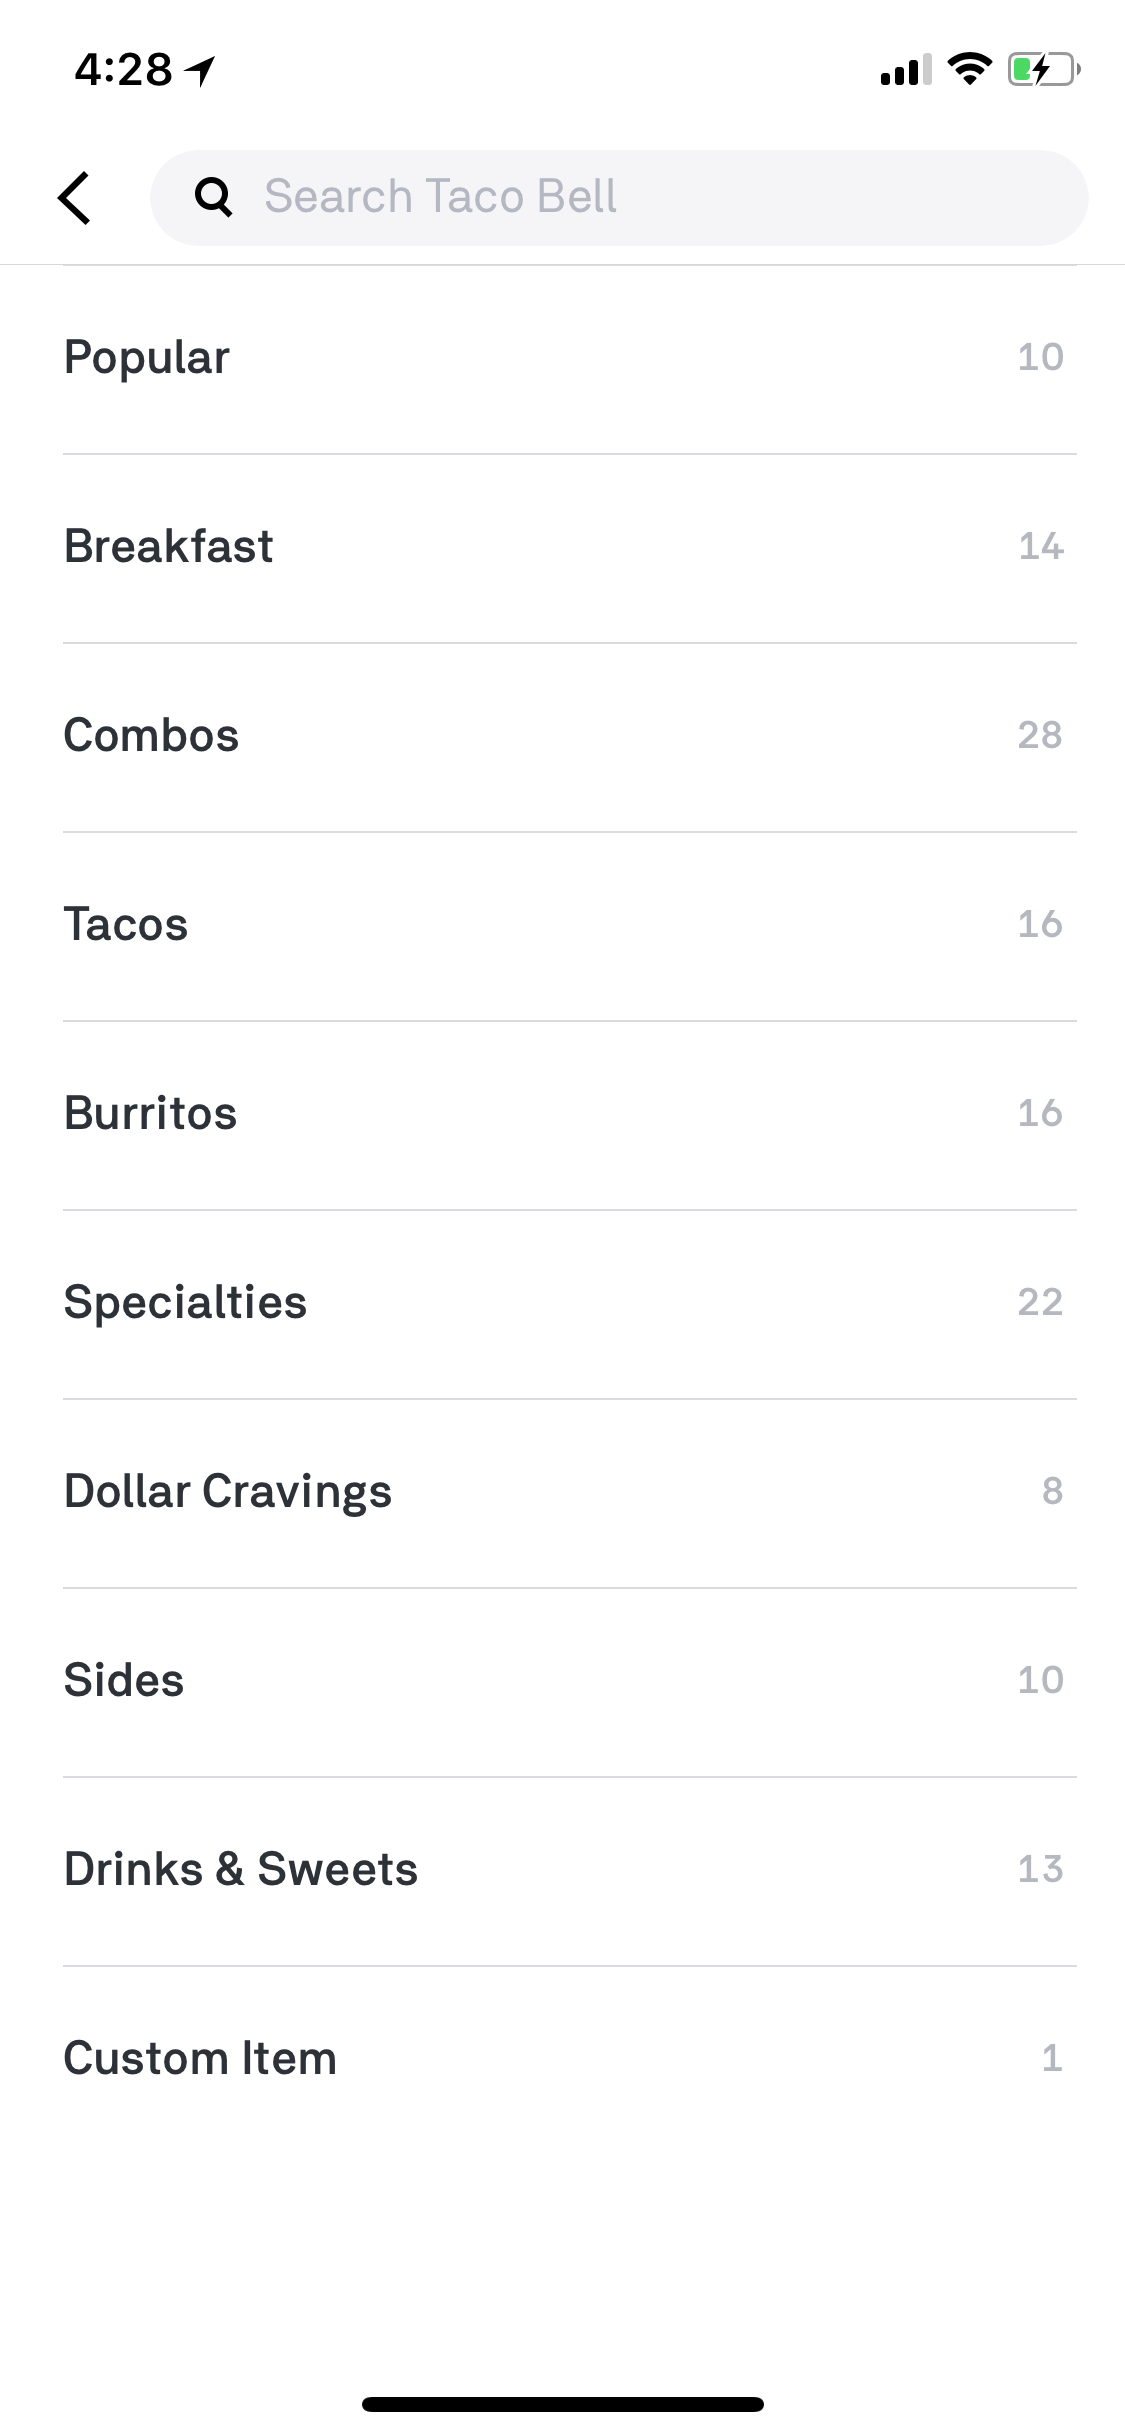Buttons: (12, 134, 135, 256)
